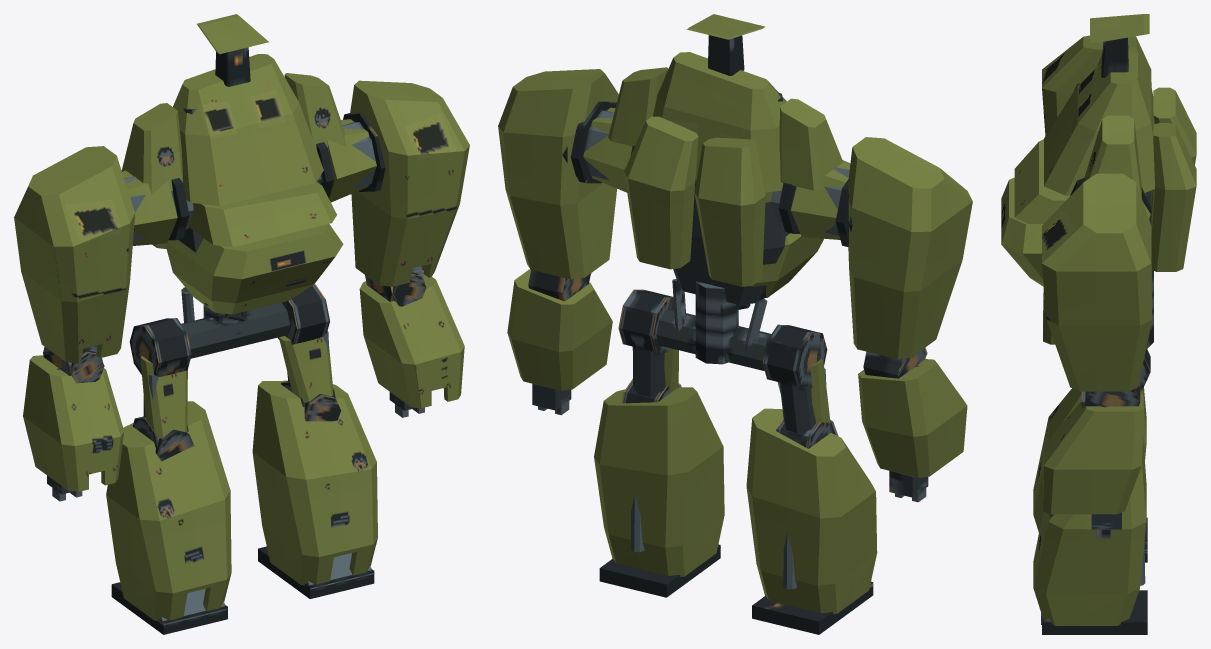
The model's file is boxguard-rifle-grunt-v2.glb.
The picture shows the model from 3 angles, left to right: view 1: azimuth 30°, elevation 25°; view 2: azimuth 150°, elevation 25°; view 3: azimuth 270°, elevation 25°; orthographic projection. The views are drawn at different scales.
Visible parts, largest first — view 1: PLATE_upper_arm.R, PLATE_shin.L, PLATE_shin.R, PLATE_upper_arm.L, PLATE_chest_upper, PLATE_forearm.R, PLATE_chest_lower, PLATE_forearm.L, PLATE_chest_transom, CORE_pelvis, PLATE_riser.R, CORE_thigh.R (+16 smaller); view 2: PLATE_upper_arm.R, PLATE_shin.L, PLATE_shin.R, PLATE_upper_arm.L, PLATE_forearm.R, PLATE_chest_upper, PLATE_back.L, PLATE_back.R, PLATE_forearm.L, CORE_pelvis, CORE_thigh.R, PLATE_riser.R (+19 smaller); view 3: PLATE_upper_arm.L, PLATE_shin.L, PLATE_forearm.L, PLATE_chest_upper, PLATE_back.L, PLATE_upper_arm.R, PLATE_riser.L, PLATE_chest_transom, PLATE_chest_lower, PLATE_shin.R, CORE_foot.L, PLATE_back.R (+5 smaller).
Part boxes in pixels (x1,y1,x2,y2): PLATE_upper_arm.R: [14, 146, 135, 363]; PLATE_shin.L: [252, 380, 377, 585]; PLATE_shin.R: [106, 401, 231, 620]; PLATE_upper_arm.L: [350, 80, 469, 286]; PLATE_chest_upper: [173, 54, 323, 205]; PLATE_forearm.R: [23, 355, 124, 491]; PLATE_chest_lower: [165, 224, 343, 314]; PLATE_forearm.L: [359, 270, 464, 408]; PLATE_chest_transom: [187, 182, 336, 247]; CORE_pelvis: [181, 287, 289, 358]; PLATE_riser.R: [121, 103, 182, 194]; CORE_thigh.R: [129, 318, 191, 427]; PLATE_upper_arm.R: [848, 137, 972, 359]; PLATE_shin.L: [594, 387, 724, 576]; PLATE_shin.R: [746, 408, 877, 614]; PLATE_upper_arm.L: [498, 69, 618, 279]; PLATE_forearm.R: [858, 359, 967, 477]; PLATE_chest_upper: [653, 52, 786, 192]; PLATE_back.L: [624, 116, 698, 269]; PLATE_back.R: [694, 137, 765, 286]; PLATE_forearm.L: [507, 269, 612, 390]; CORE_pelvis: [656, 279, 771, 370]; CORE_thigh.R: [762, 324, 827, 433]; PLATE_riser.R: [779, 98, 842, 190]; PLATE_upper_arm.L: [1042, 173, 1152, 391]; PLATE_shin.L: [1033, 437, 1146, 625]; PLATE_forearm.L: [1043, 394, 1143, 514]; PLATE_chest_upper: [1044, 51, 1154, 195]; PLATE_back.L: [1151, 123, 1196, 271]; PLATE_upper_arm.R: [1042, 35, 1151, 135]; PLATE_riser.L: [1084, 115, 1141, 198]; PLATE_chest_transom: [1014, 139, 1145, 223]; PLATE_chest_lower: [1001, 177, 1043, 286]; PLATE_shin.R: [1033, 387, 1146, 532]; CORE_foot.L: [1041, 590, 1147, 634]; PLATE_back.R: [1151, 87, 1196, 222].
Size of the model in its own units: 2.59 by 3.27 by 1.03.
1 material, 1 textured.
